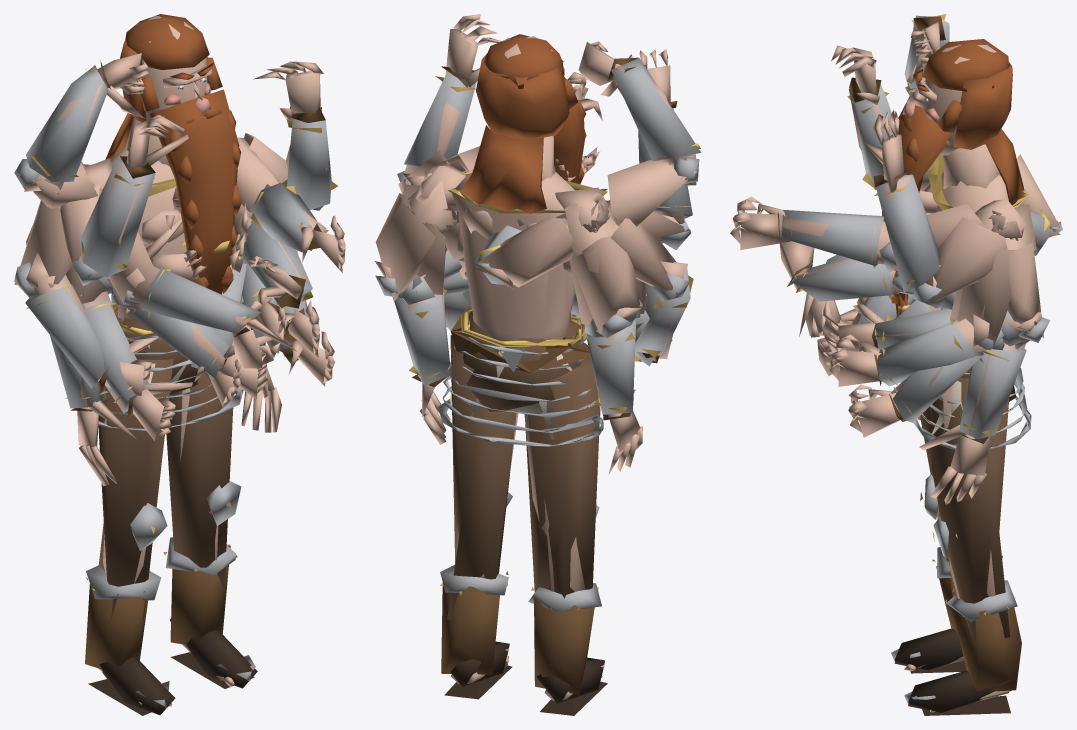
File: dwarf_leather.glb
The picture shows the model from 3 angles, left to right: view 1: azimuth 30°, elevation 25°; view 2: azimuth 150°, elevation 25°; view 3: azimuth 270°, elevation 25°; orthographic projection. The views are drawn at different scales.
Visible parts, largest first — view 1: B_6d, B_0d, B_7d, R.cast_25d, R.raised_16d, R.staffR_22d, R.xbowR_31d, L.cast_52d, R.staffR_20d, L.bowArm_43d, R.weapon_13d, B_1d (+32 smaller); view 2: B_6d, B_0d, B_7d, B_1d, B_5d, R.raised_16d, B_2d, R.carry_32d, R.draw_17d, L.rest_37d, R.raised_14d, R.rest_10d (+20 smaller); view 3: B_0d, B_7d, B_6d, L.cast_52d, L.cast_50d, L.bowArm_43d, L.rest_37d, L.shield_40d, L.xbowL_49d, L.shield_38d, L.carry_56d, L.rest_36d (+23 smaller).
Part boxes in pixels (<box>): B_6d: <box>98,317,241,620</box>; B_0d: <box>105,14,242,294</box>; B_7d: <box>85,537,257,715</box>; R.cast_25d: <box>71,156,155,285</box>; R.raised_16d: <box>14,60,110,189</box>; R.staffR_22d: <box>14,262,108,392</box>; R.xbowR_31d: <box>120,268,260,337</box>; L.cast_52d: <box>282,106,337,210</box>; R.staffR_20d: <box>14,200,100,377</box>; L.bowArm_43d: <box>250,182,328,252</box>; R.weapon_13d: <box>85,301,149,417</box>; B_1d: <box>111,146,186,321</box>; B_6d: <box>447,311,600,619</box>; B_0d: <box>460,34,586,213</box>; B_7d: <box>440,565,607,715</box>; B_1d: <box>452,172,575,348</box>; B_5d: <box>438,170,607,446</box>; R.raised_16d: <box>607,57,701,184</box>; B_2d: <box>408,165,616,257</box>; R.carry_32d: <box>570,215,641,333</box>; R.draw_17d: <box>477,207,581,290</box>; L.rest_37d: <box>394,276,450,387</box>; R.raised_14d: <box>591,65,696,226</box>; R.rest_10d: <box>581,318,635,420</box>; B_0d: <box>882,39,1023,316</box>; B_7d: <box>891,547,1021,715</box>; B_6d: <box>920,367,1016,645</box>; L.cast_52d: <box>873,170,945,308</box>; L.cast_50d: <box>881,176,1007,302</box>; L.bowArm_43d: <box>777,209,896,272</box>; L.rest_37d: <box>959,339,1029,443</box>; L.shield_40d: <box>874,318,1003,386</box>; L.xbowL_49d: <box>787,257,914,301</box>; L.shield_38d: <box>880,221,1015,375</box>; L.carry_56d: <box>998,221,1043,337</box>; L.rest_36d: <box>919,425,990,504</box>.
Size of the model in its own units: 0.6619 by 1.36 by 0.6366.
